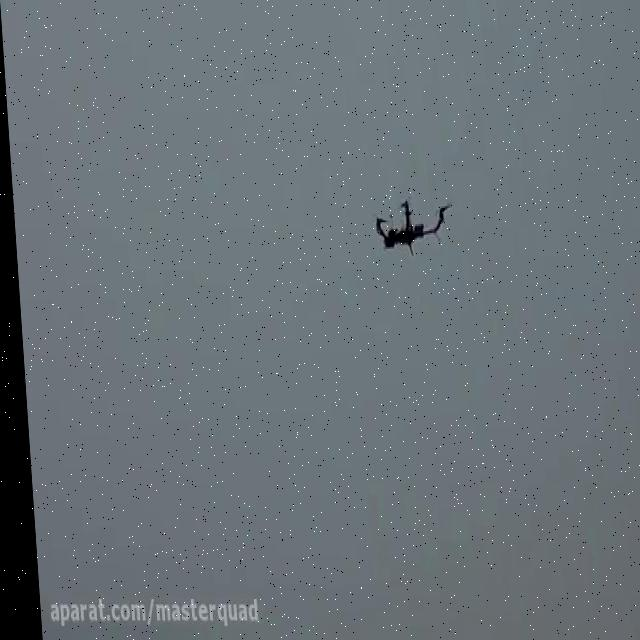drone: (362, 188, 453, 258)
